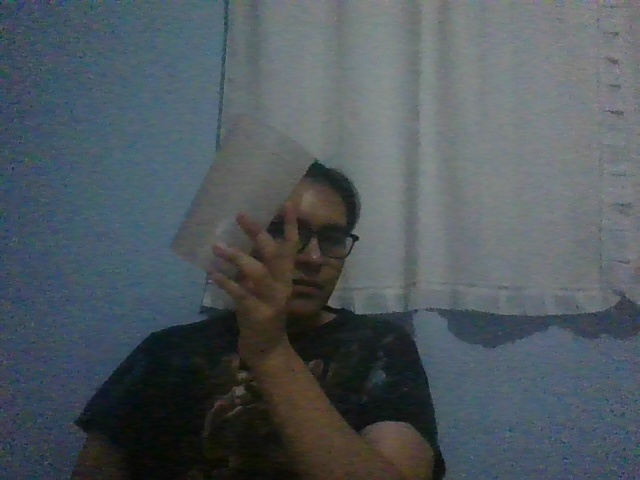vaso: (167, 112, 315, 282)
